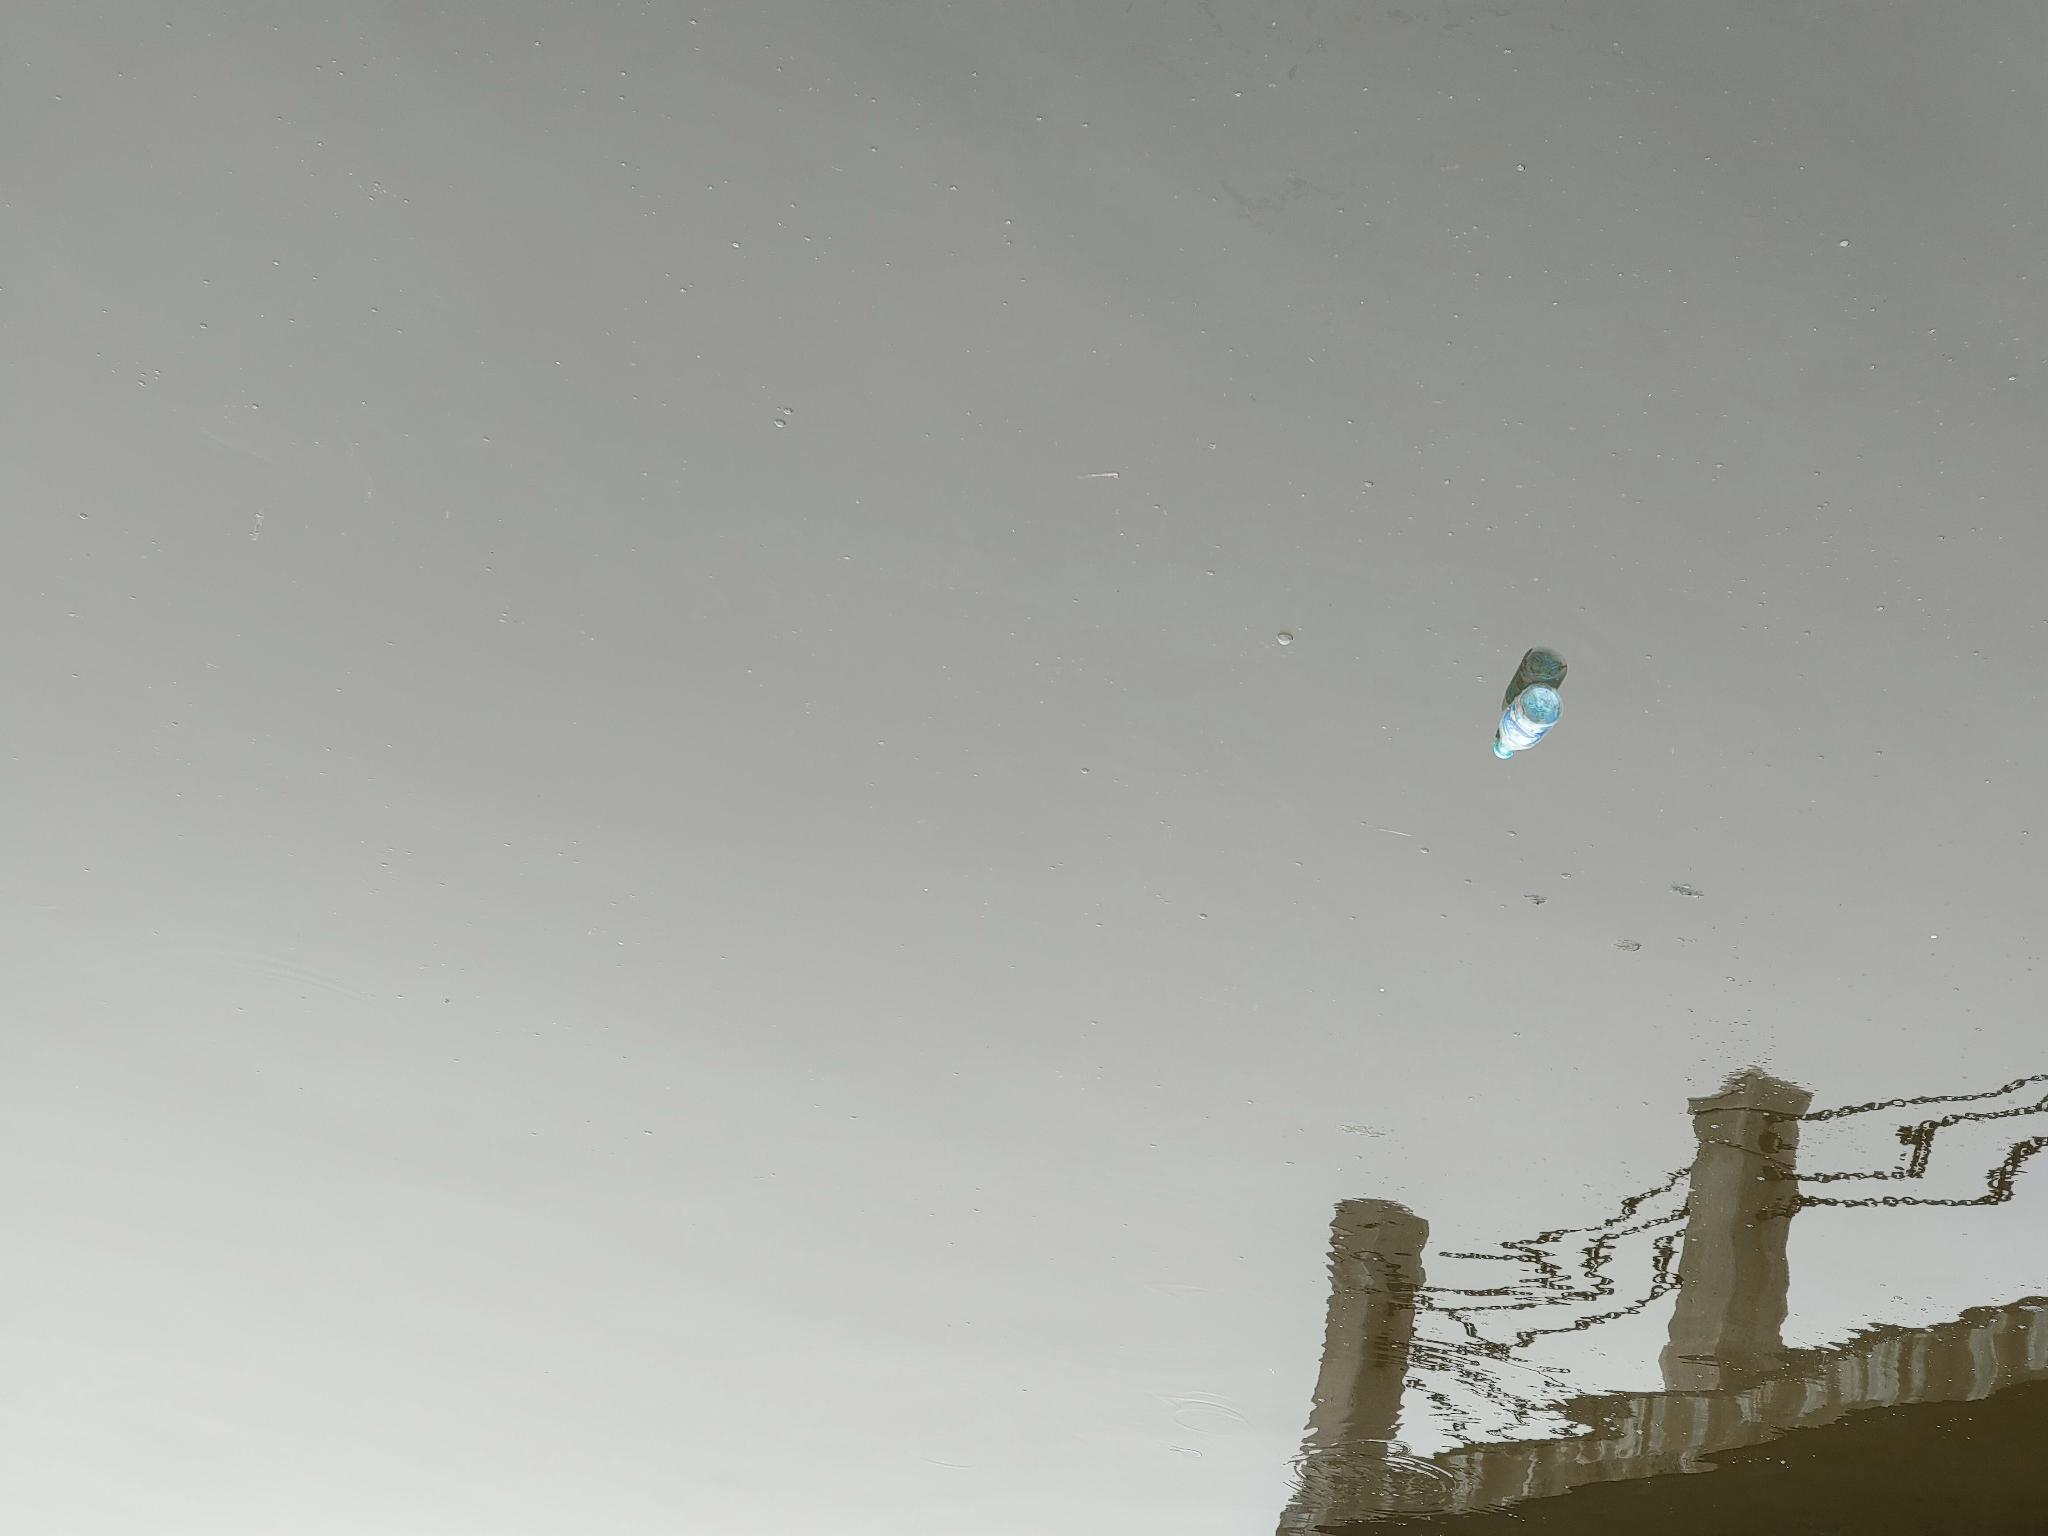Plastic: (1485, 679, 1564, 763)
